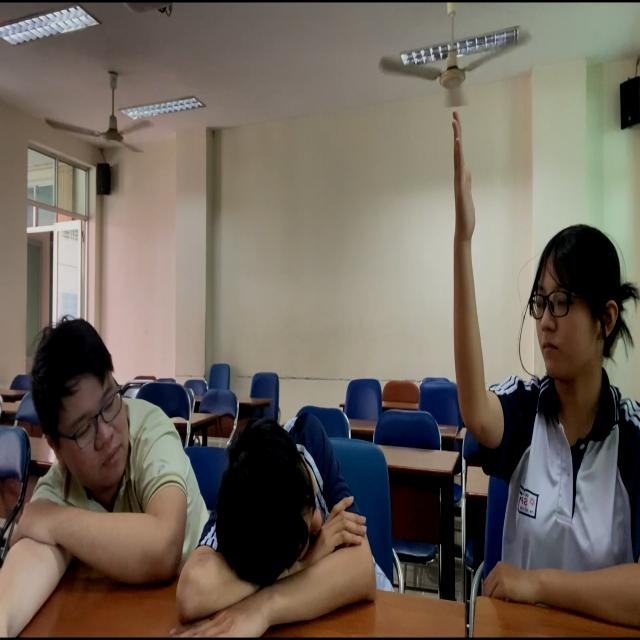raise_hand: (431, 85, 640, 640)
sleep: (168, 408, 393, 640)
